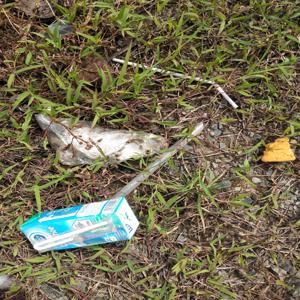cardboard: (16, 196, 146, 254)
plastic: (108, 110, 233, 214), (107, 46, 247, 114), (34, 108, 179, 173)
